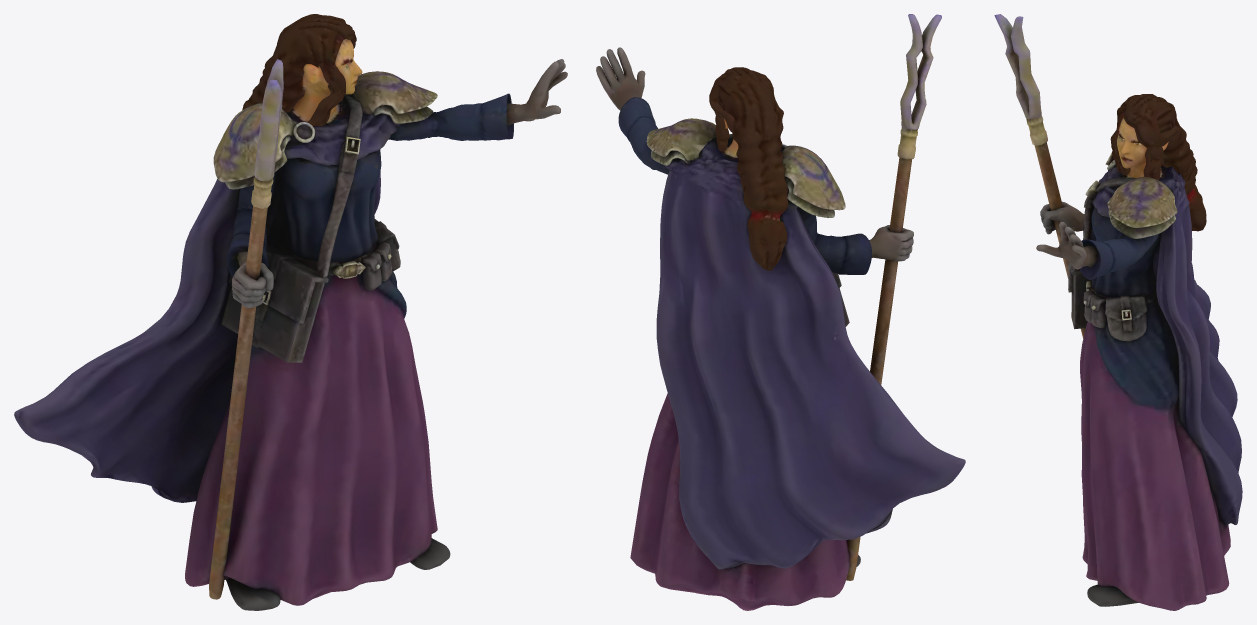
File: MZ4250 - Human Female Abjuration Wizard_3.glb
The picture shows the model from 3 angles, left to right: view 1: azimuth 30°, elevation 25°; view 2: azimuth 150°, elevation 25°; view 3: azimuth 270°, elevation 25°; orthographic projection. The views are drawn at different scales.
Visible parts, largest first — view 1: Cube.002; view 2: Cube.002; view 3: Cube.002.
Boxes of the visible parts, bbox=[...] form: Cube.002: bbox=[14, 14, 567, 610]; Cube.002: bbox=[596, 14, 965, 610]; Cube.002: bbox=[994, 14, 1242, 610].
Bounding box in the file's own units: 82.16 × 98.91 × 42.75.
Materials: 1 (1 with a texture image).
